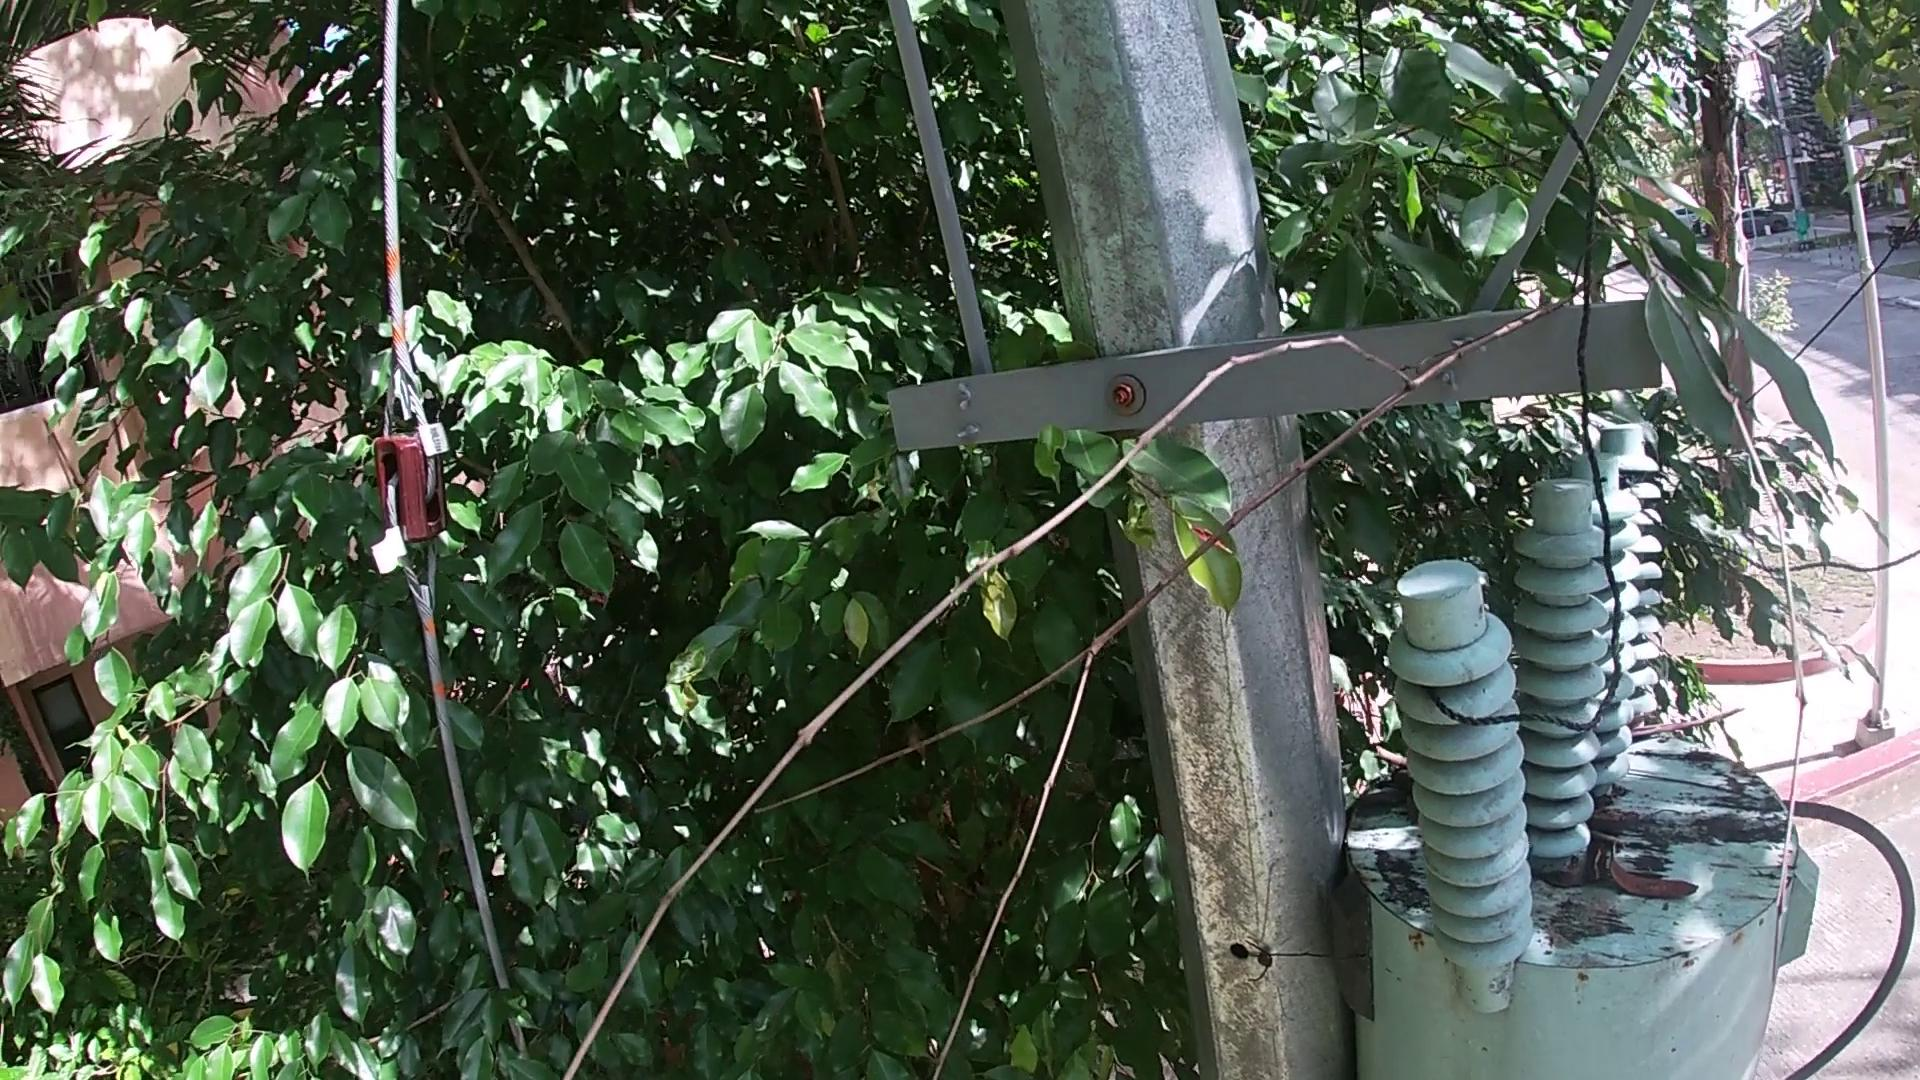leaf: (1604, 844, 1698, 905)
tree branch: (553, 241, 1832, 1079), (1629, 700, 1749, 742), (1373, 745, 1408, 789)
